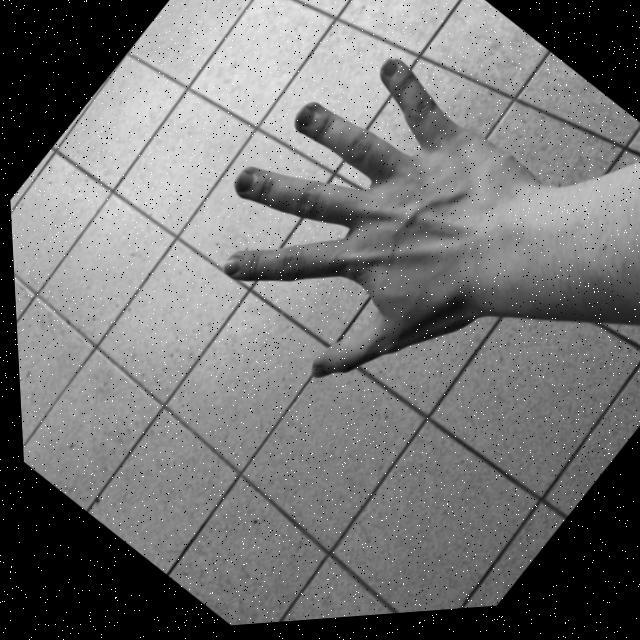no-gloves: (150, 15, 566, 440)
